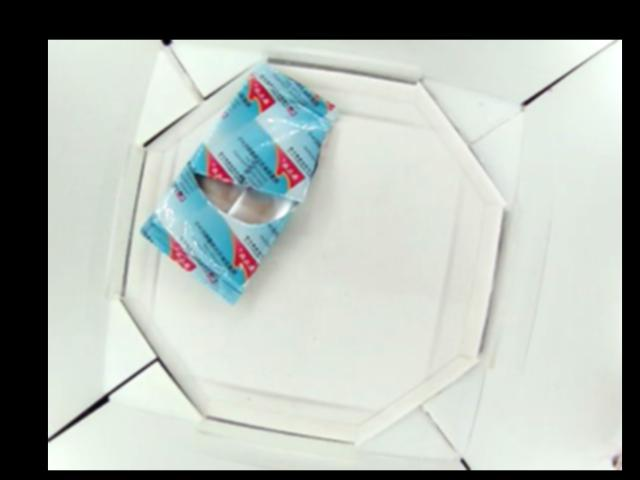Medicine: (138, 66, 335, 307)
